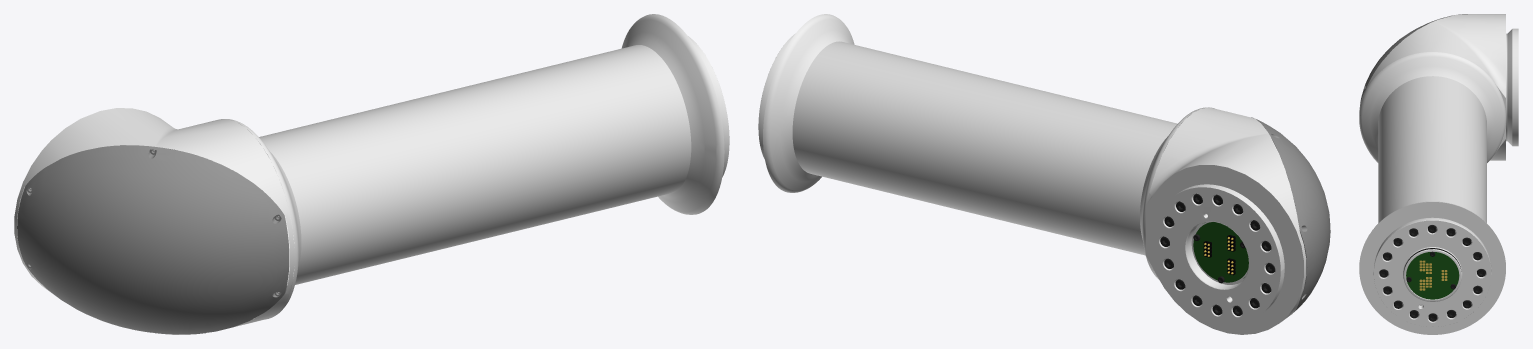
3 views of the same model, side by side, from view 1: azimuth 30°, elevation 25°; view 2: azimuth 150°, elevation 25°; view 3: azimuth 270°, elevation 25° (orthographic). The views are drawn at different scales.
Parts seen in each view (by area): view 1: L116.001; view 2: L116.001; view 3: L116.001.
Part boxes in pixels (<box>): L116.001: <box>14,14,729,334</box>; L116.001: <box>758,14,1330,334</box>; L116.001: <box>1359,14,1518,334</box>.
Bounding box in the file's own units: 0.4107 × 0.116 × 0.126.
